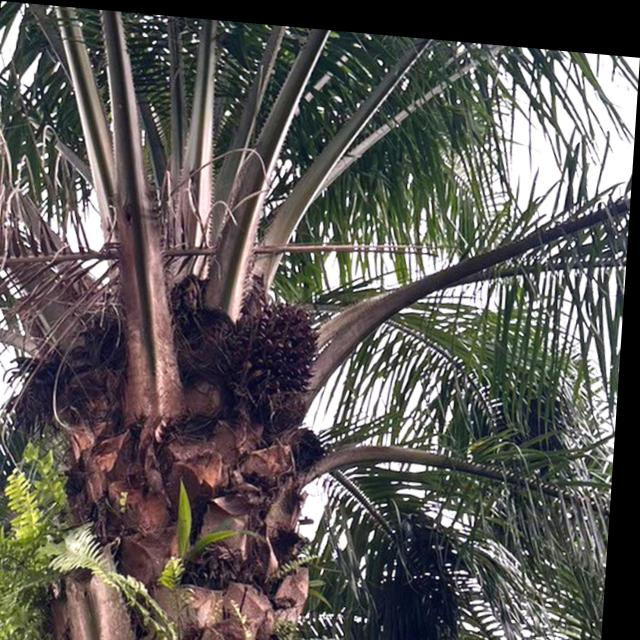ripe: (210, 276, 334, 404)
